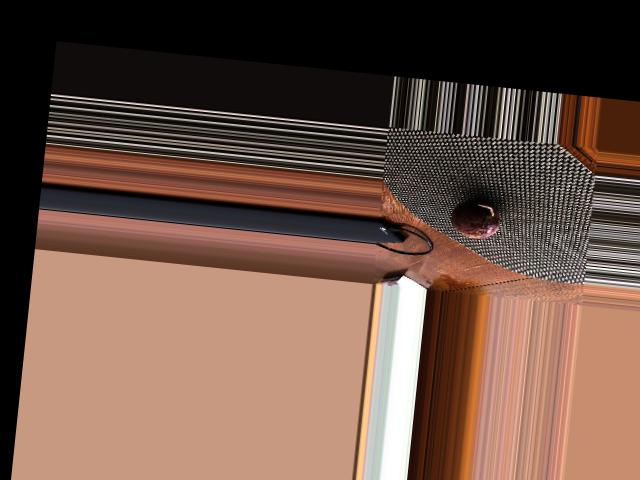beet: (448, 198, 501, 240)
